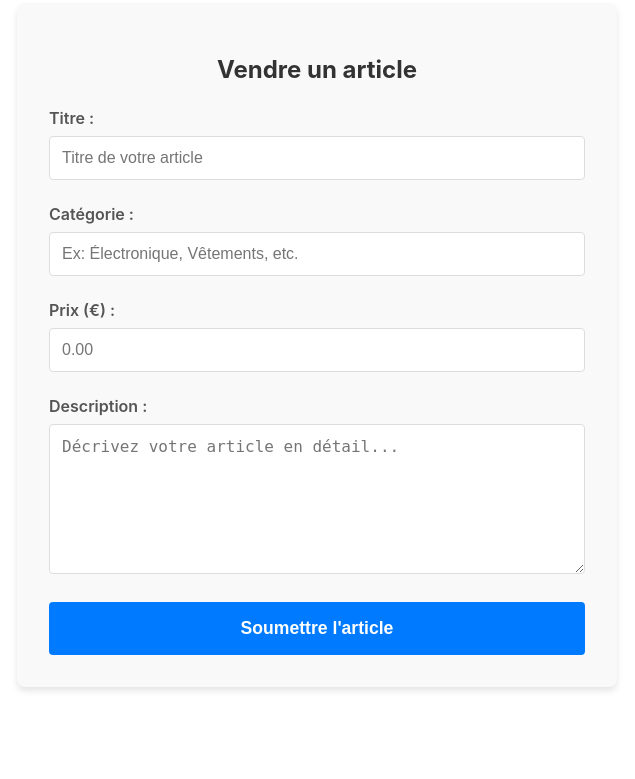
Test: SellForm › should show error when title is too short
Type "1234" into the field labelled "Titre :".
click(317, 158); type("1234")  # box x1=49 y1=136 x2=585 y2=180
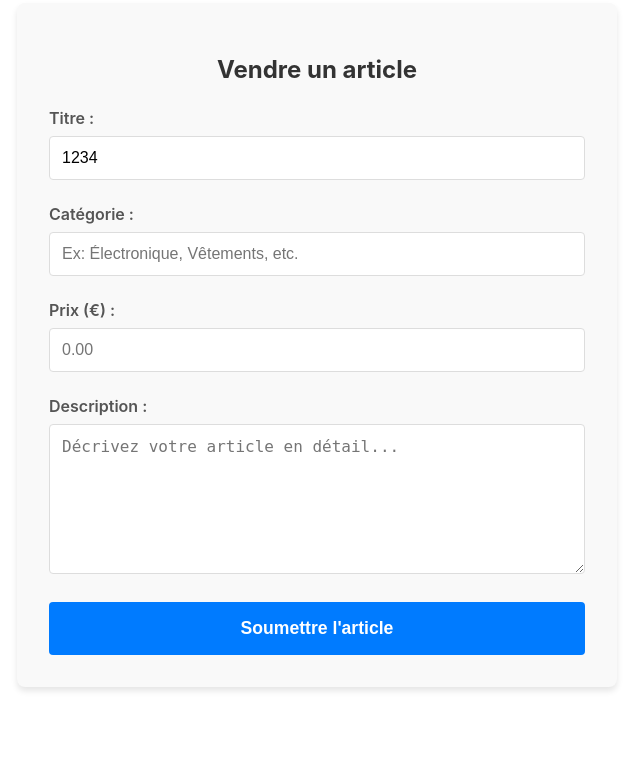
Type "Vêtements" into the field labelled "Catégorie :".
click(317, 254); type("Vêtements")  # box x1=49 y1=232 x2=585 y2=276
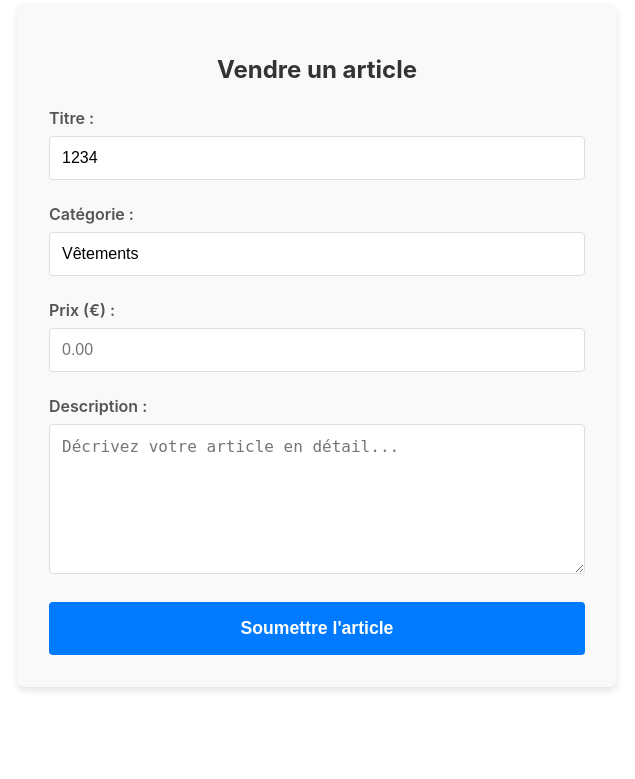
Type "20" into the number field labelled "Prix (€) :".
click(317, 350); type("20")  # box x1=49 y1=328 x2=585 y2=372
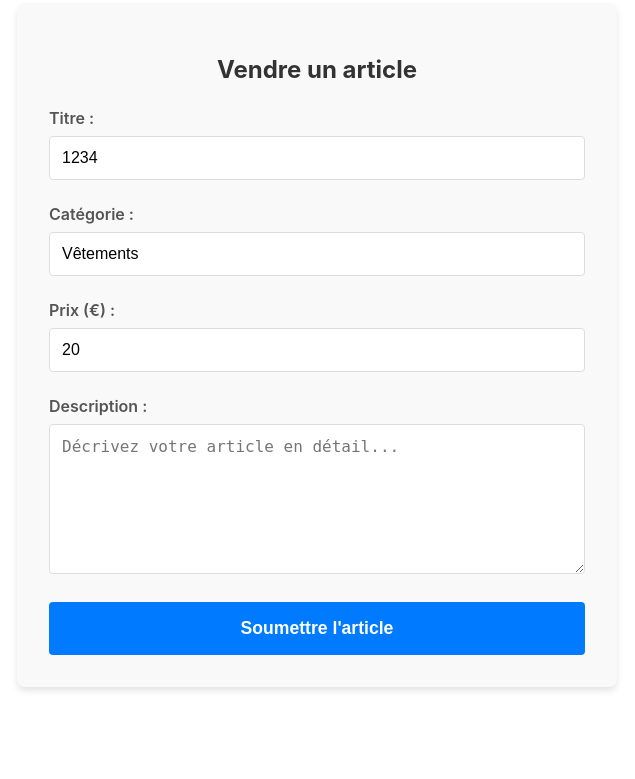
Type "Une belle description" into the text box labelled "Description :".
click(317, 499); type("Une belle description")  # box x1=49 y1=424 x2=585 y2=574
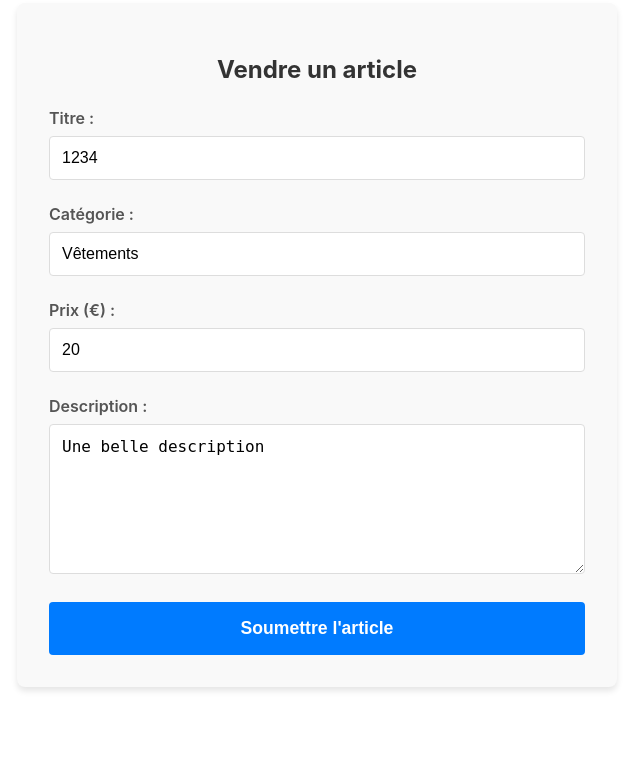
Click the button "Soumettre l'article".
click(317, 628)  # box x1=49 y1=602 x2=585 y2=655
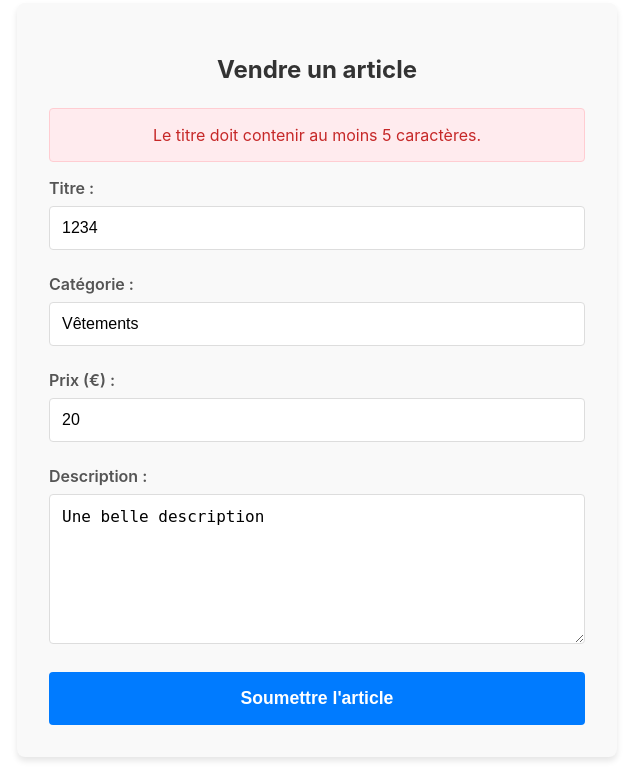
Check: the text "Le titre doit contenir au moins 5 caractères." is shown, box x1=49 y1=108 x2=585 y2=162
